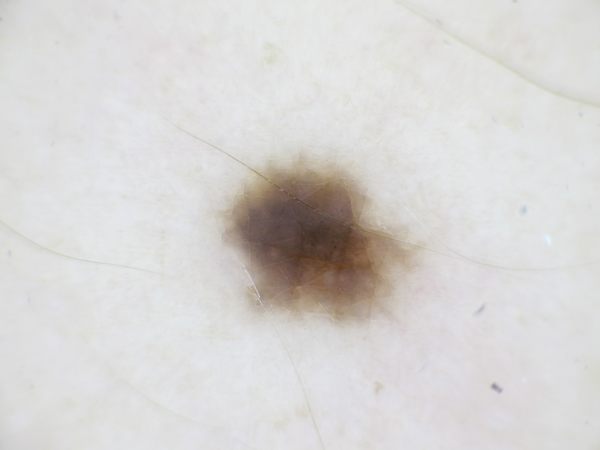Detected Lesion: (218, 149, 420, 333)
